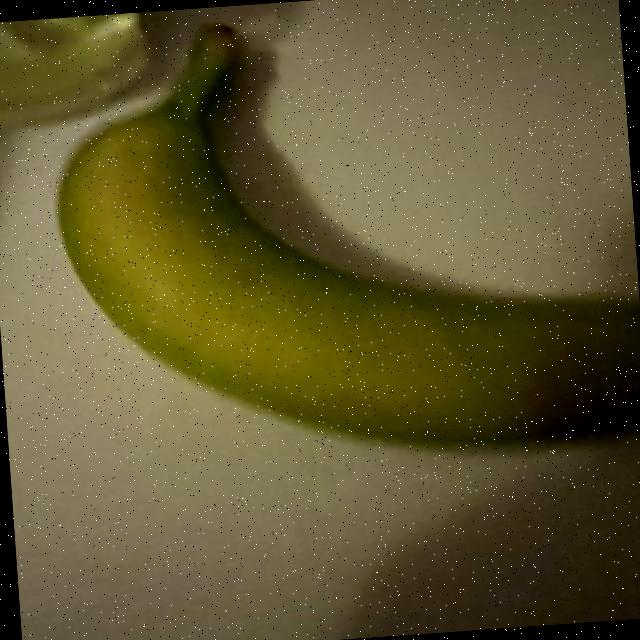Unripe: (18, 0, 640, 499)
